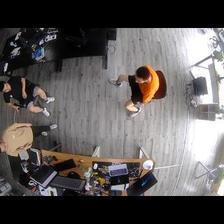normal: (107, 63, 164, 120), (1, 74, 55, 121)
